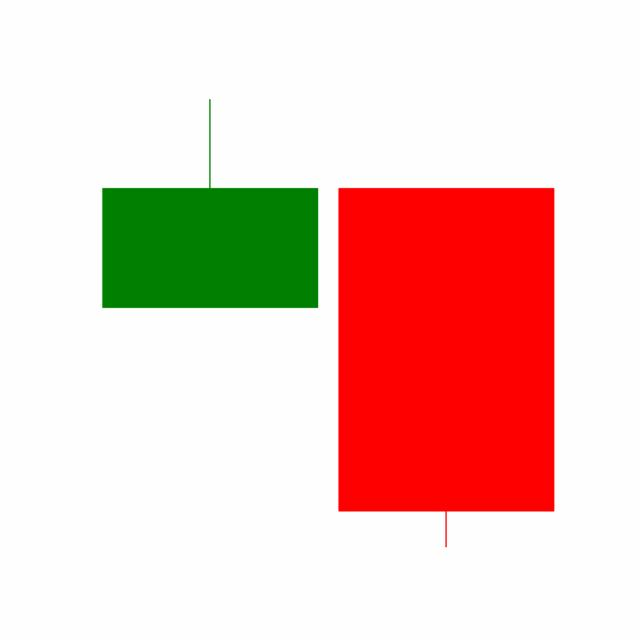Marubozu: (327, 184, 565, 552)
